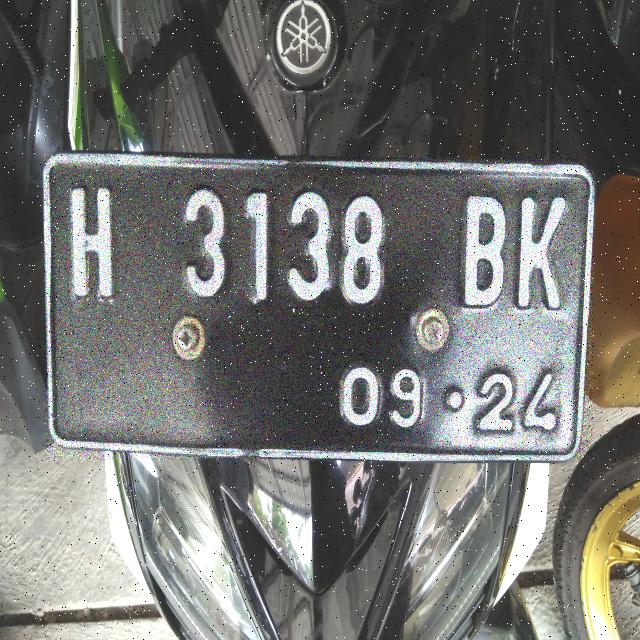plate: (45, 154, 593, 459)
